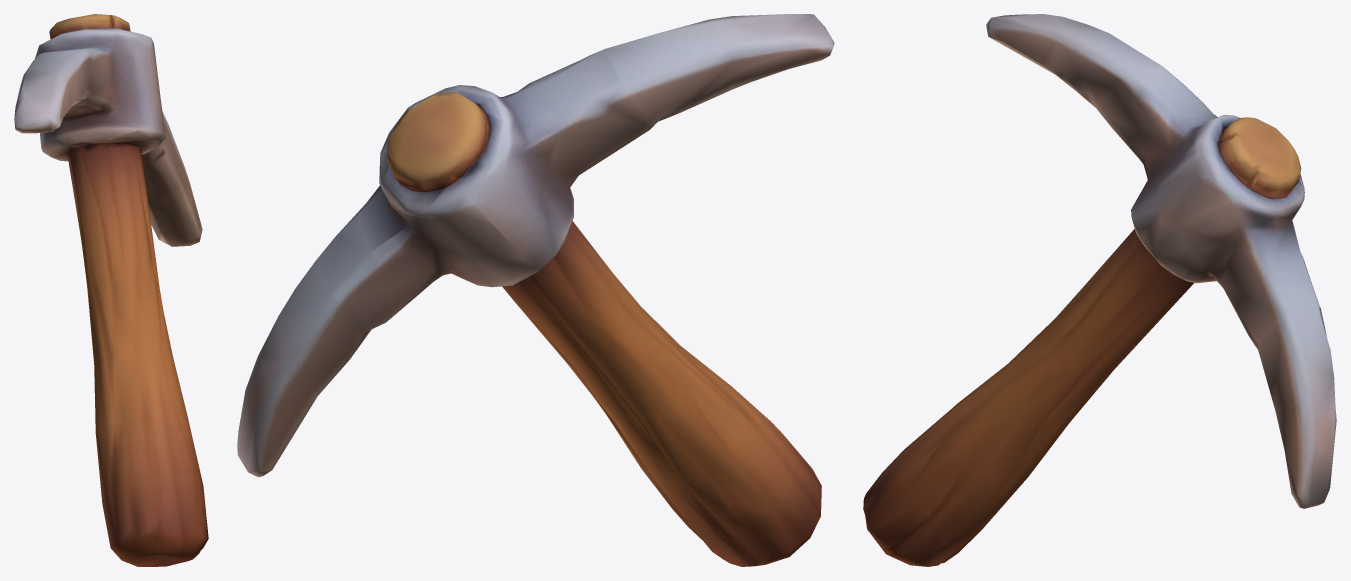
The model's file is pickaxe.glb.
3 renders of one model, left to right at view 1: azimuth 30°, elevation 25°; view 2: azimuth 150°, elevation 25°; view 3: azimuth 270°, elevation 25°, orthographic. The views are drawn at different scales.
Visible parts, largest first — view 1: tripo_node_3022bd6d-284e-4bc9-8347-c797dd3cd97b; view 2: tripo_node_3022bd6d-284e-4bc9-8347-c797dd3cd97b; view 3: tripo_node_3022bd6d-284e-4bc9-8347-c797dd3cd97b.
Part boxes in pixels (x1,y1,x2,y2): tripo_node_3022bd6d-284e-4bc9-8347-c797dd3cd97b: (14,14,208,566); tripo_node_3022bd6d-284e-4bc9-8347-c797dd3cd97b: (237,14,834,566); tripo_node_3022bd6d-284e-4bc9-8347-c797dd3cd97b: (863,14,1336,566).
Size of the model in its own units: 0.7055 by 0.9787 by 0.8209.
Materials: 1 (1 with a texture image).
